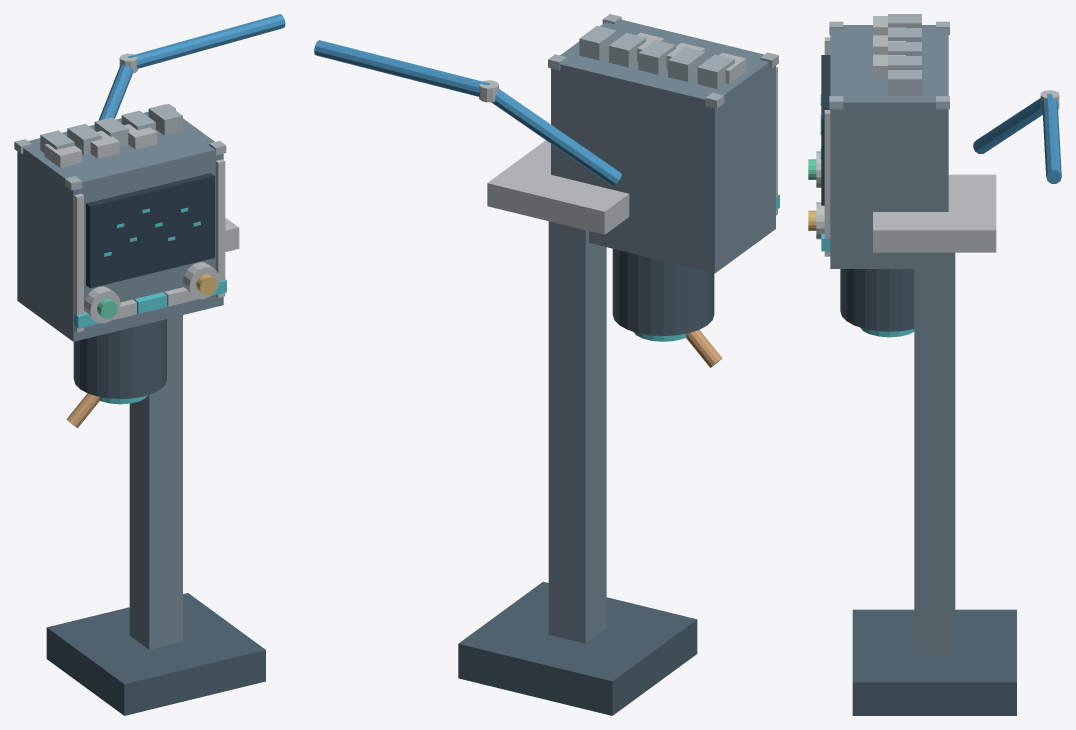
Rendered from 43_L73_InSituOpticalEndpointSensor.glb.
3 renders of one model, left to right at view 1: azimuth 30°, elevation 25°; view 2: azimuth 150°, elevation 25°; view 3: azimuth 270°, elevation 25°, orthographic. The views are drawn at different scales.
Parts seen in each view (by area): view 1: InSituOpticalEndpointSensor_Node_0003, InSituOpticalEndpointSensor_Node_0001, InSituOpticalEndpointSensor_Node_0000, InSituOpticalEndpointSensor_Node_0010, InSituOpticalEndpointSensor_Node_0039, InSituOpticalEndpointSensor_Node_0042, InSituOpticalEndpointSensor_Node_0009, InSituOpticalEndpointSensor_Node_0008, InSituOpticalEndpointSensor_Node_0041, InSituOpticalEndpointSensor_Node_0031, InSituOpticalEndpointSensor_Node_0022, InSituOpticalEndpointSensor_Node_0020 (+9 smaller); view 2: InSituOpticalEndpointSensor_Node_0003, InSituOpticalEndpointSensor_Node_0000, InSituOpticalEndpointSensor_Node_0001, InSituOpticalEndpointSensor_Node_0039, InSituOpticalEndpointSensor_Node_0002, InSituOpticalEndpointSensor_Node_0042, InSituOpticalEndpointSensor_Node_0041, InSituOpticalEndpointSensor_Node_0031, InSituOpticalEndpointSensor_Node_0028, InSituOpticalEndpointSensor_Node_0027, InSituOpticalEndpointSensor_Node_0029, InSituOpticalEndpointSensor_Node_0030; view 3: InSituOpticalEndpointSensor_Node_0003, InSituOpticalEndpointSensor_Node_0000, InSituOpticalEndpointSensor_Node_0001, InSituOpticalEndpointSensor_Node_0002, InSituOpticalEndpointSensor_Node_0039, InSituOpticalEndpointSensor_Node_0042, InSituOpticalEndpointSensor_Node_0041, InSituOpticalEndpointSensor_Node_0009, InSituOpticalEndpointSensor_Node_0010, InSituOpticalEndpointSensor_Node_0031, InSituOpticalEndpointSensor_Node_0030, InSituOpticalEndpointSensor_Node_0027 (+2 smaller).
Boxes of the visible parts, <box> form: InSituOpticalEndpointSensor_Node_0003: <box>17,111,223,341</box>; InSituOpticalEndpointSensor_Node_0001: <box>46,593,265,715</box>; InSituOpticalEndpointSensor_Node_0000: <box>129,315,182,649</box>; InSituOpticalEndpointSensor_Node_0010: <box>86,173,214,288</box>; InSituOpticalEndpointSensor_Node_0039: <box>73,319,166,398</box>; InSituOpticalEndpointSensor_Node_0042: <box>128,14,285,68</box>; InSituOpticalEndpointSensor_Node_0009: <box>215,159,225,297</box>; InSituOpticalEndpointSensor_Node_0008: <box>74,193,83,332</box>; InSituOpticalEndpointSensor_Node_0041: <box>98,65,132,120</box>; InSituOpticalEndpointSensor_Node_0031: <box>148,104,182,135</box>; InSituOpticalEndpointSensor_Node_0022: <box>183,262,219,299</box>; InSituOpticalEndpointSensor_Node_0020: <box>84,286,120,323</box>; InSituOpticalEndpointSensor_Node_0003: <box>551,19,775,273</box>; InSituOpticalEndpointSensor_Node_0000: <box>548,221,606,643</box>; InSituOpticalEndpointSensor_Node_0001: <box>458,581,697,715</box>; InSituOpticalEndpointSensor_Node_0039: <box>612,249,714,335</box>; InSituOpticalEndpointSensor_Node_0002: <box>487,140,629,234</box>; InSituOpticalEndpointSensor_Node_0042: <box>314,40,489,96</box>; InSituOpticalEndpointSensor_Node_0041: <box>491,89,621,185</box>; InSituOpticalEndpointSensor_Node_0031: <box>579,25,616,60</box>; InSituOpticalEndpointSensor_Node_0028: <box>668,47,705,81</box>; InSituOpticalEndpointSensor_Node_0027: <box>697,54,734,88</box>; InSituOpticalEndpointSensor_Node_0029: <box>638,40,675,74</box>; InSituOpticalEndpointSensor_Node_0030: <box>609,33,646,67</box>; InSituOpticalEndpointSensor_Node_0003: <box>830,25,948,268</box>; InSituOpticalEndpointSensor_Node_0000: <box>914,252,955,654</box>; InSituOpticalEndpointSensor_Node_0001: <box>852,609,1016,715</box>; InSituOpticalEndpointSensor_Node_0002: <box>873,174,996,252</box>; InSituOpticalEndpointSensor_Node_0039: <box>840,269,914,331</box>; InSituOpticalEndpointSensor_Node_0042: <box>1042,94,1061,183</box>; InSituOpticalEndpointSensor_Node_0041: <box>973,98,1042,154</box>; InSituOpticalEndpointSensor_Node_0009: <box>824,110,830,256</box>; InSituOpticalEndpointSensor_Node_0010: <box>821,55,830,205</box>; InSituOpticalEndpointSensor_Node_0031: <box>888,70,921,95</box>; InSituOpticalEndpointSensor_Node_0030: <box>888,56,921,69</box>; InSituOpticalEndpointSensor_Node_0027: <box>888,14,921,27</box>.
Size of the model in its own units: 0.9408 by 1.62 by 0.617.
